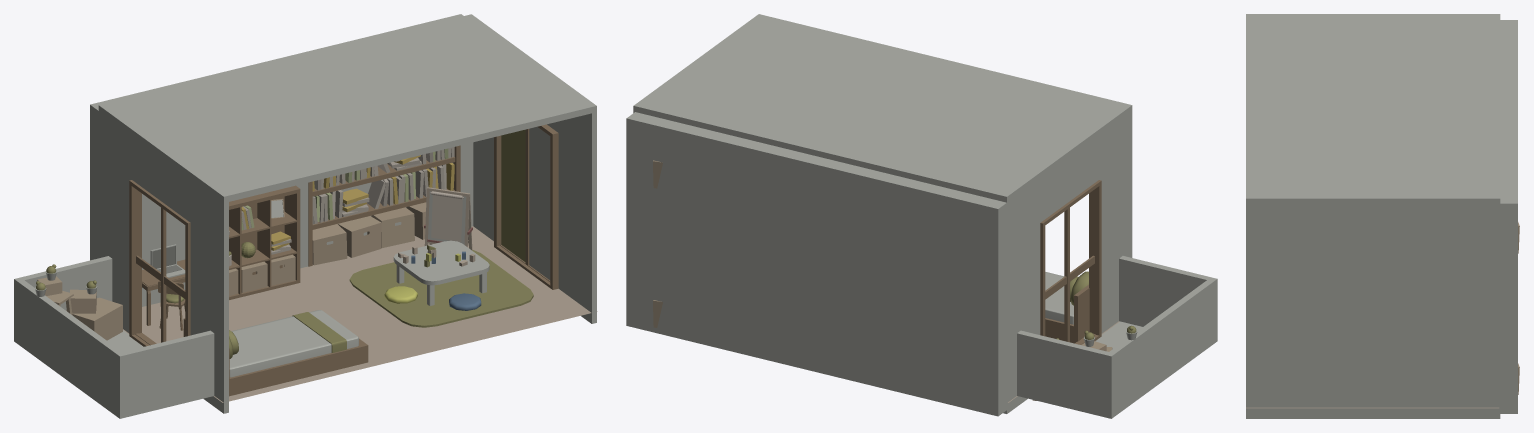
Rendered from kidbedroom_sad.fbx.
3 views of the same model, side by side, from view 1: azimuth 30°, elevation 25°; view 2: azimuth 150°, elevation 25°; view 3: azimuth 270°, elevation 25° (orthographic).
Visible parts, largest first — view 1: pPlane109, kidbedroom1_pPlane53, kidbedroom1_pPlane123, pPlane365, pPlane376, kidbedroom1_pPlane147, pPlane350, pPlane362, pPlane343, polySurface590, pPlane509, pPlane508 (+21 smaller); view 2: polySurface588, pPlane109, kidbedroom1_pPlane123, pPlane365, pPlane357, pPlane55, pPlane362, pPlane510, pPlane359; view 3: pPlane376, pPlane109, polySurface588, kidbedroom1_pPlane53.
Boxes of the visible parts, left/top/right/bottom form: pPlane109: left=98, top=14, right=596, bottom=202; kidbedroom1_pPlane53: left=123, top=226, right=597, bottom=402; kidbedroom1_pPlane123: left=14, top=256, right=214, bottom=418; pPlane365: left=98, top=111, right=228, bottom=413; pPlane376: left=473, top=111, right=596, bottom=323; kidbedroom1_pPlane147: left=349, top=249, right=533, bottom=327; pPlane350: left=229, top=185, right=300, bottom=299; pPlane362: left=229, top=310, right=358, bottom=377; pPlane343: left=142, top=142, right=473, bottom=306; polySurface590: left=312, top=163, right=454, bottom=224; pPlane509: left=527, top=127, right=550, bottom=281; pPlane508: left=500, top=129, right=526, bottom=264; polySurface588: left=626, top=112, right=1006, bottom=416; pPlane109: left=633, top=14, right=1132, bottom=202; kidbedroom1_pPlane123: left=1017, top=256, right=1217, bottom=418; pPlane365: left=1003, top=112, right=1132, bottom=413; pPlane357: left=1040, top=180, right=1101, bottom=344; pPlane55: left=1045, top=284, right=1089, bottom=343; pPlane362: left=1045, top=272, right=1073, bottom=324; pPlane510: left=1045, top=208, right=1068, bottom=341; pPlane359: left=1068, top=207, right=1095, bottom=344; pPlane376: left=1246, top=204, right=1500, bottom=418; pPlane109: left=1246, top=14, right=1500, bottom=204; polySurface588: left=1500, top=20, right=1517, bottom=413; kidbedroom1_pPlane53: left=1246, top=407, right=1498, bottom=408.
Size of the model in its own units: 10.38 by 4.58 by 5.15.
